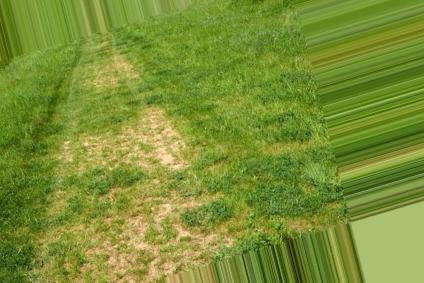patch: (132, 109, 176, 175), (120, 192, 167, 249), (67, 235, 108, 279), (83, 139, 129, 164), (132, 256, 158, 267), (191, 230, 210, 238)
